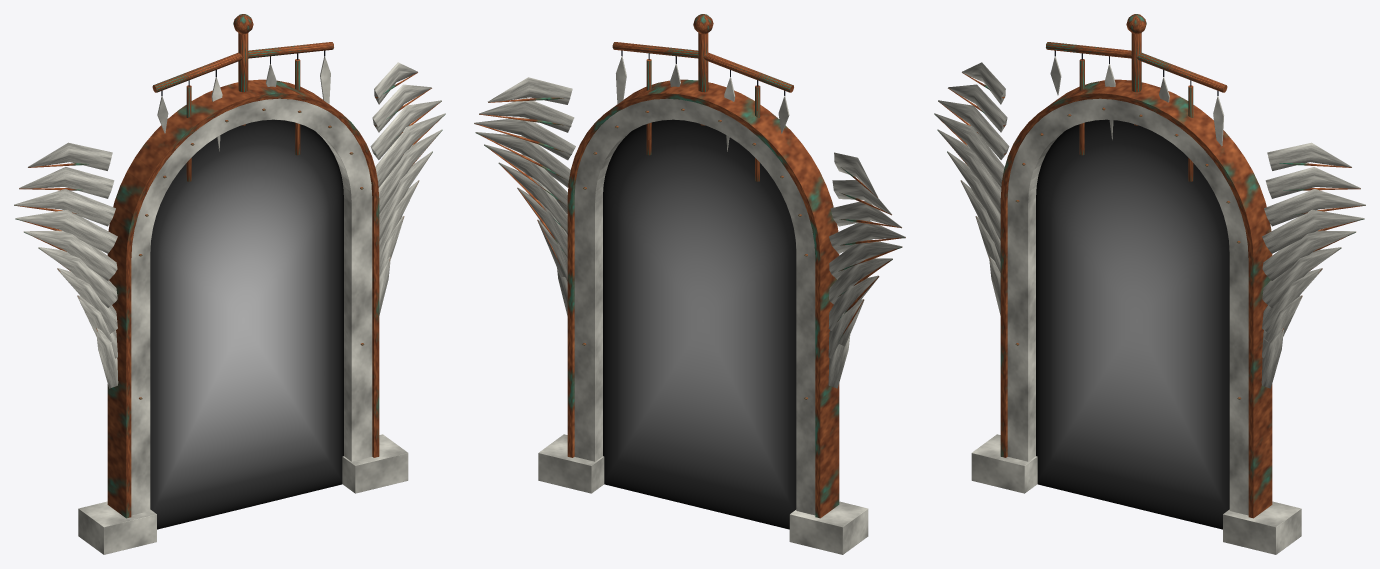
File: sky_garden.glb
The picture shows the model from 3 angles, left to right: view 1: azimuth 30°, elevation 25°; view 2: azimuth 150°, elevation 25°; view 3: azimuth 330°, elevation 25°; orthographic projection.
Visible parts, largest first — view 1: Veil, Frame, Frame_Detail; view 2: Veil, Frame, Frame_Detail; view 3: Veil, Frame, Frame_Detail.
Boxes of the visible parts, bbox=[...] form: Veil: bbox=[150, 119, 343, 529]; Frame: bbox=[14, 14, 445, 554]; Frame_Detail: bbox=[14, 50, 445, 399]; Veil: bbox=[603, 119, 796, 529]; Frame: bbox=[474, 14, 905, 554]; Frame_Detail: bbox=[474, 50, 905, 399]; Veil: bbox=[1036, 119, 1229, 529]; Frame: bbox=[934, 14, 1365, 554]; Frame_Detail: bbox=[934, 50, 1365, 399].
Bounding box in the file's own units: 2.91 × 3.19 × 0.3921.
Materials: 4 (3 with a texture image).
